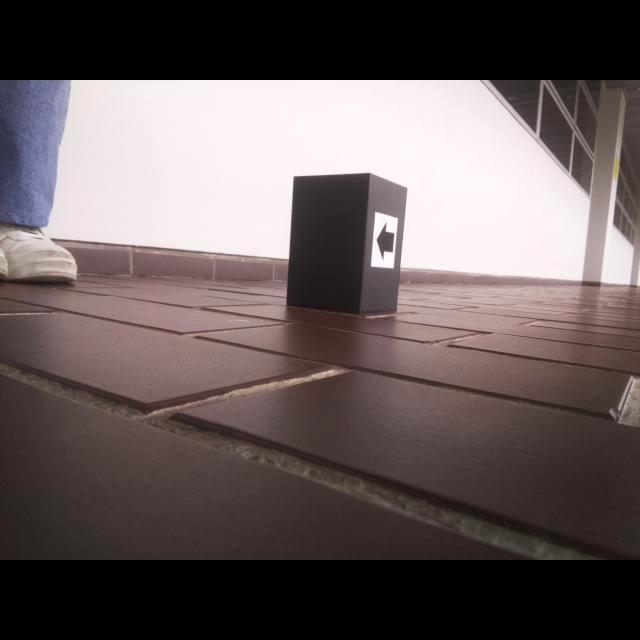LEFT: (375, 220, 395, 262)
